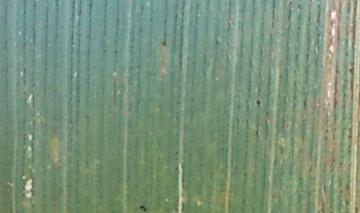tarspot: (346, 125, 354, 140), (137, 204, 148, 213), (254, 98, 262, 108), (75, 7, 83, 17), (302, 97, 308, 110), (256, 85, 262, 98), (303, 52, 310, 62), (241, 169, 248, 179), (137, 25, 144, 35), (352, 205, 360, 213), (343, 199, 351, 207), (298, 147, 306, 155), (343, 49, 350, 58), (240, 197, 247, 206), (254, 128, 260, 138), (149, 11, 154, 23), (307, 164, 313, 174), (160, 39, 167, 47), (295, 24, 302, 32), (323, 127, 330, 135), (315, 31, 322, 39), (322, 135, 329, 143), (347, 67, 354, 74), (175, 99, 182, 106), (173, 148, 180, 155), (31, 2, 38, 9), (214, 38, 220, 46), (225, 40, 231, 48), (298, 175, 304, 183), (294, 52, 299, 61), (174, 163, 179, 172), (112, 48, 119, 54), (3, 19, 9, 26), (337, 188, 343, 195), (219, 145, 225, 152), (300, 85, 307, 91), (337, 160, 344, 166), (198, 143, 205, 149), (179, 24, 185, 31), (292, 68, 297, 76), (264, 110, 269, 118), (342, 92, 348, 98), (102, 48, 107, 55), (344, 77, 349, 84), (88, 3, 93, 9), (292, 80, 296, 87), (306, 1, 313, 4)
